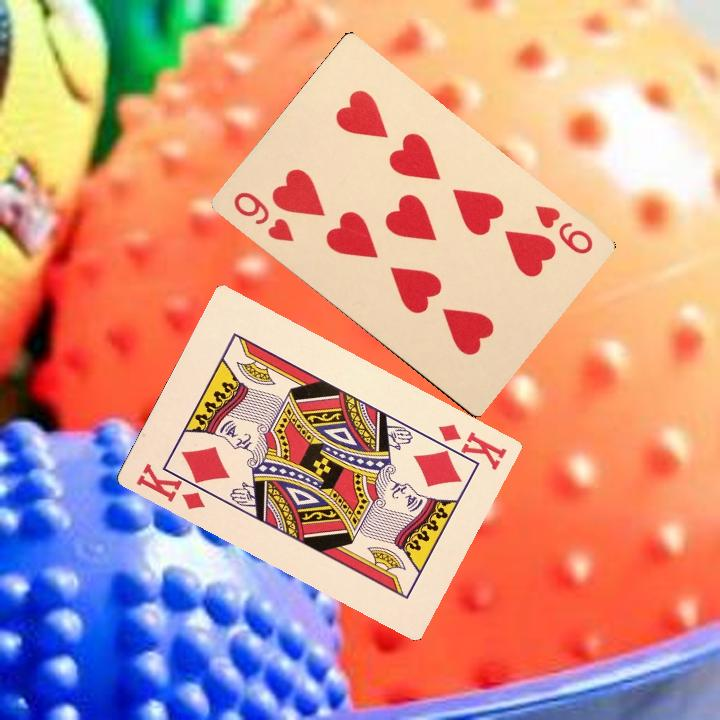9h: (229, 187, 296, 245), (530, 200, 596, 257)
Kd: (422, 420, 509, 473), (131, 459, 212, 513)
